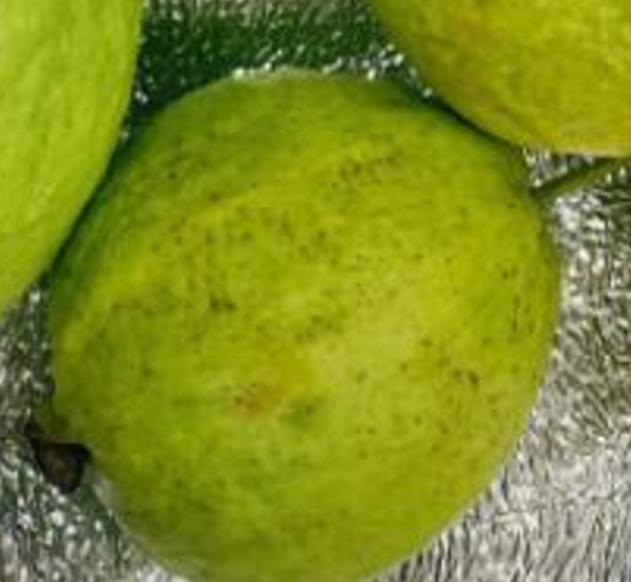guava_B: (49, 69, 563, 581)
